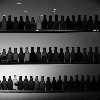beer: (47, 15, 54, 30)
